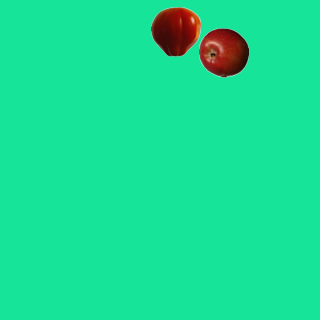Apple Braeburn: (198, 27, 248, 77)
Tomato 1: (150, 6, 200, 56)
